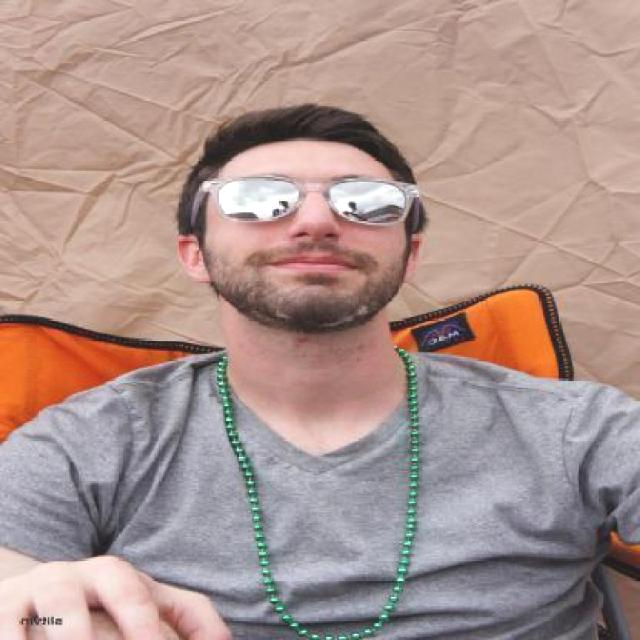face_nomask: (216, 167, 410, 296)
glasses: (182, 164, 420, 225)
hand_noglove: (0, 547, 239, 640)
head_nohelmet: (205, 102, 408, 166)
person: (0, 104, 603, 640)
